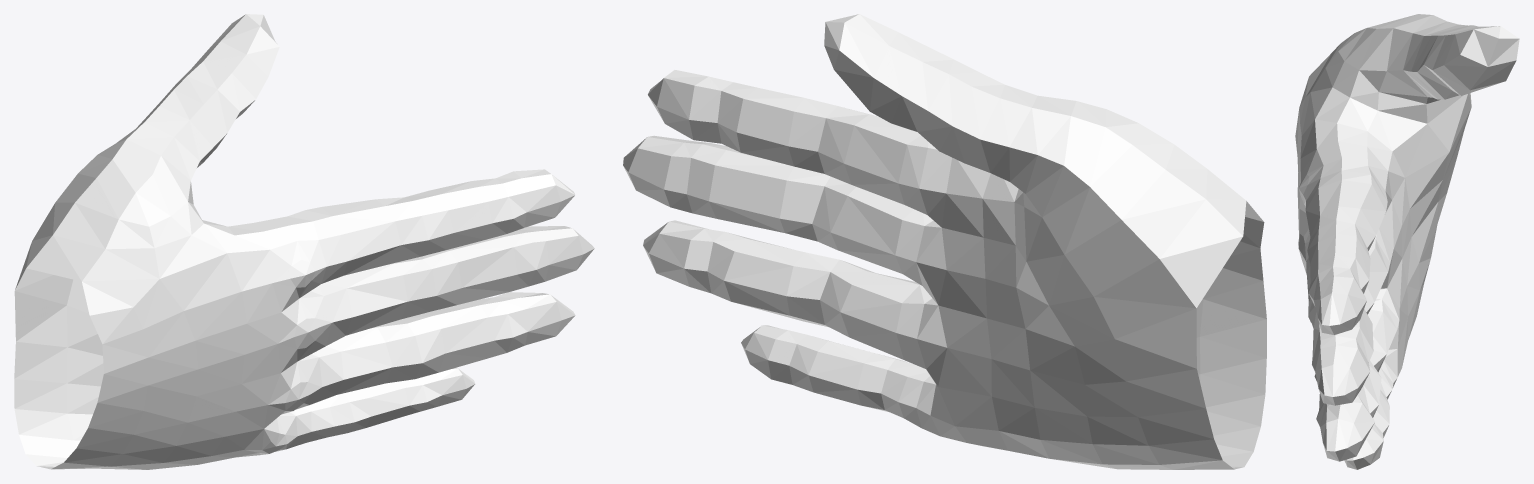
The model's file is r_hand.dae.
The picture shows the model from 3 angles, left to right: view 1: azimuth 30°, elevation 25°; view 2: azimuth 150°, elevation 25°; view 3: azimuth 270°, elevation 25°; orthographic projection. The views are drawn at different scales.
Visible parts, largest first — view 1: node; view 2: node; view 3: node.
Boxes of the visible parts, <box> form: node: <box>14,14,594,469</box>; node: <box>623,14,1266,469</box>; node: <box>1295,14,1519,469</box>.
Size of the model in its own units: 0.2124 by 0.1439 by 0.0754.
1 material, 1 textured.
